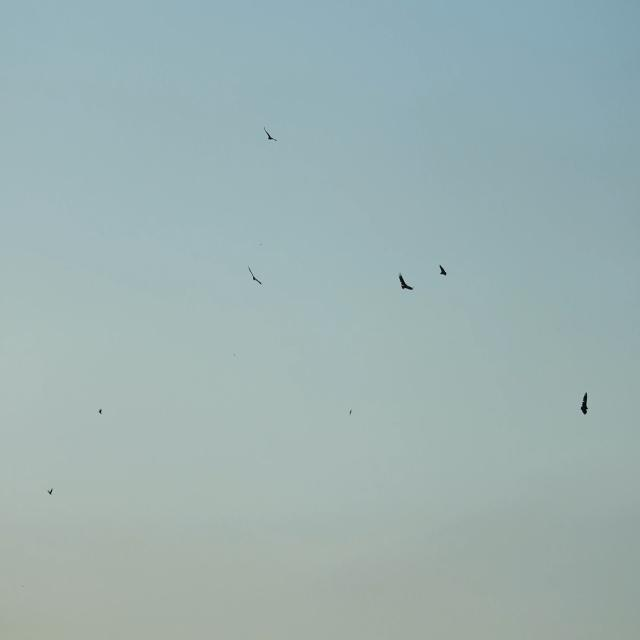bird: (395, 267, 415, 296), (578, 389, 590, 424), (245, 264, 263, 287), (262, 122, 276, 145), (438, 259, 451, 283), (48, 488, 54, 502)
